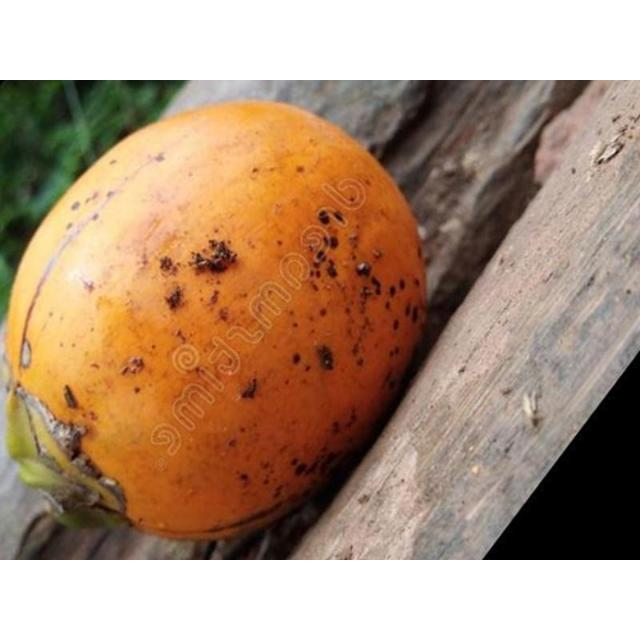good: (6, 102, 425, 538)
